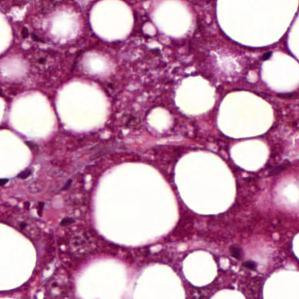steatosis: (173, 152, 237, 216), (216, 0, 299, 49), (216, 91, 275, 138), (0, 222, 38, 291), (88, 0, 134, 43), (181, 249, 217, 287)
